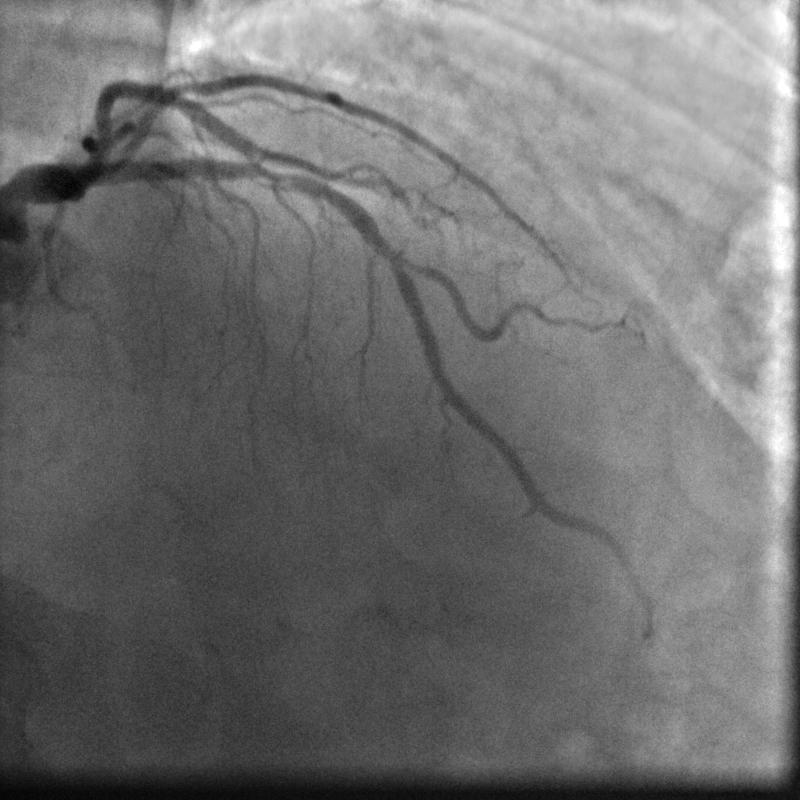Stenosis: (244, 163, 297, 189)
